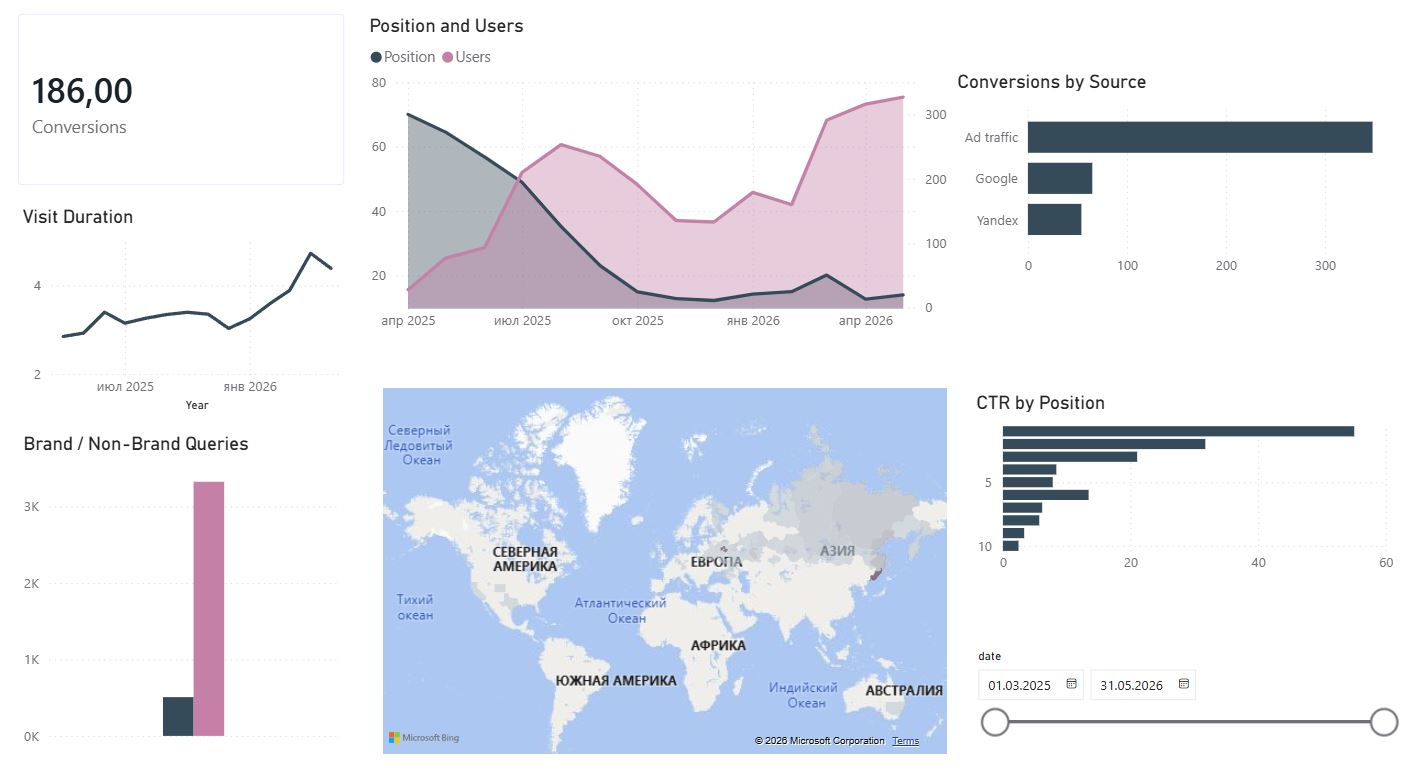

Layout of this report page (visuals, bound fields, positions):
{"tool":"powerbi","page":{"name":"SEO Analysis","canvas":[1280,720],"ordinal":1},"visuals":[{"type":"clusteredColumnChart","title":"Brand / Non-Brand Queries","fields":{"Y":["GA_Dates.BrandQueries","GA_Dates.NonBrandQueries"]},"box":[17.1,397.1,298.3,290.3],"z":0},{"type":"filledMap","fields":{"Category":["public fact_metrica_main.region_area"]},"box":[344.7,352.8,522.1,341.7],"z":1000},{"type":"lineChart","title":"Visit Duration","fields":{"Y":["Avg(public fact_metrica_main.avg_visit_duration_min)"],"Category":["public date_con.month_start.Variation.Date Hierarchy.Year","public date_con.month_start.Variation.Date Hierarchy.Month","public date_con.month_start.Variation.Date Hierarchy.Day"]},"box":[16.1,190.5,315.5,192.5],"z":2000},{"type":"slicer","fields":{"Values":["public date_con.date"]},"box":[876.8,589.4,403.2,131.1],"z":3000},{"type":"barChart","title":"CTR by Position","fields":{"Category":["webmaster.Position_Normalized"],"Y":["Avg(webmaster.CTR)"]},"box":[883.9,359.8,389,174.4],"z":4000},{"type":"lineChart","title":"Position and Users","fields":{"Category":["public date_con.month_start.Variation.Date Hierarchy.Year","public date_con.month_start.Variation.Date Hierarchy.Month","public date_con.month_start.Variation.Date Hierarchy.Day"],"Y2":["Sum(public fact_metrica_main.users)"],"Y":["Avg(Pixeltools.Position)"]},"box":[331.6,17.1,535.2,297.3],"z":5000},{"type":"clusteredBarChart","title":"Conversions by Source","fields":{"Category":["public fact_metrica_goals.source_engine"],"Y":["public fact_metrica_goals.Distributed_Conversions_Rounded"]},"box":[866.8,68.5,399.1,195.5],"z":6000},{"type":"cardVisual","fields":{"Data":["public fact_metrica_goals.Distributed_Conversions_Rounded"]},"box":[0,0,331.6,190.5],"z":7000}]}

Visuals, with their boxes in screenshot pixels (x1, y1, x2, y2), scaled from the page's 1280x720 canvas onto the 1402x783 screenshot:
"Brand / Non-Brand Queries" clusteredColumnChart: [19,432,345,748]
filledMap - public fact_metrica_main.region_area: [378,384,949,755]
"Visit Duration" lineChart: [18,207,363,417]
slicer - public date_con.date: [960,641,1401,782]
"CTR by Position" barChart: [968,391,1394,581]
"Position and Users" lineChart: [363,19,949,342]
"Conversions by Source" clusteredBarChart: [949,74,1387,287]
cardVisual - public fact_metrica_goals.Distributed_Conversions_Rounded: [0,0,363,207]
